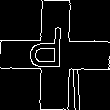P_S: (36, 30, 74, 80)
